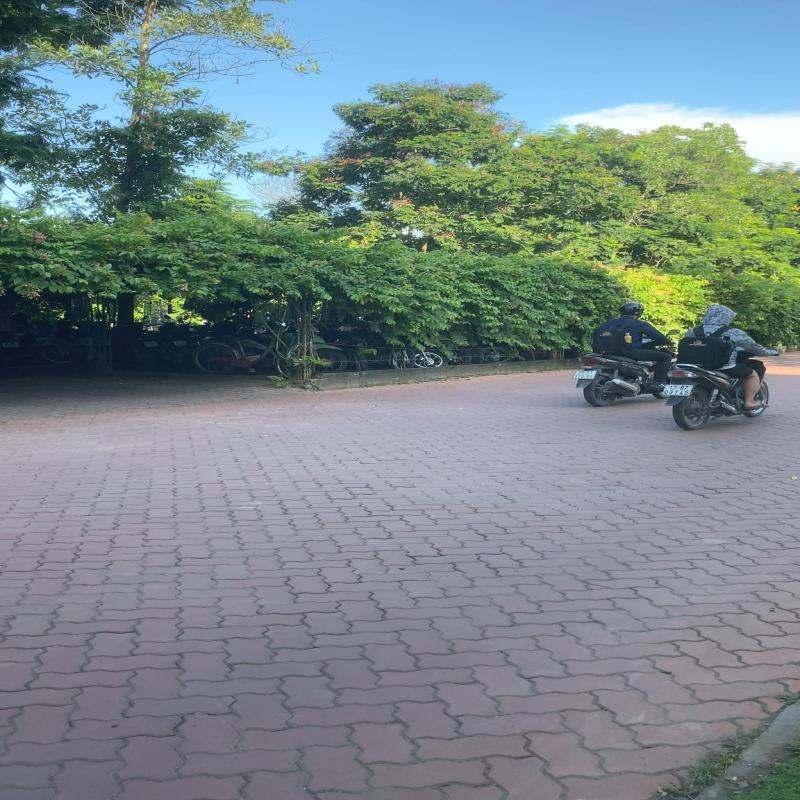helmet: (618, 303, 646, 320)
licenseplate: (662, 384, 694, 396), (573, 369, 598, 381)
motorcyclist: (660, 304, 782, 431), (570, 302, 684, 408)
